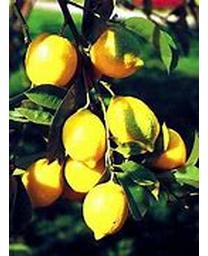lemon: (25, 33, 78, 88), (83, 183, 131, 240), (107, 98, 158, 150), (89, 26, 140, 78), (64, 111, 106, 168), (21, 156, 64, 209)
